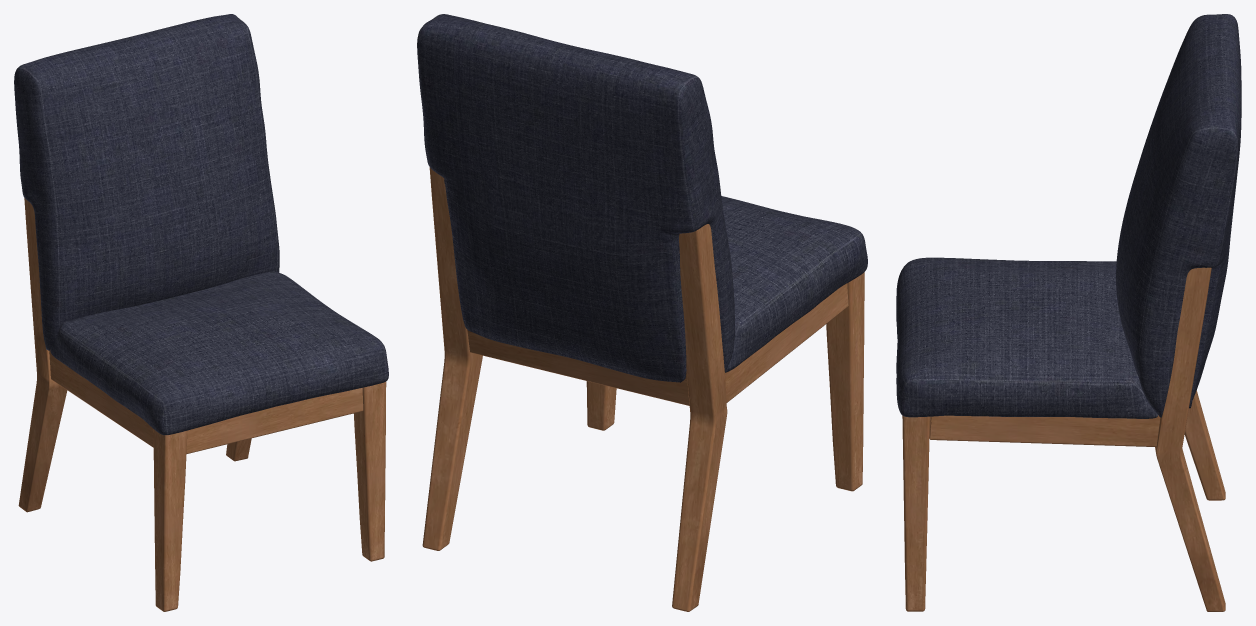
3 views of the same model, side by side, from view 1: azimuth 30°, elevation 25°; view 2: azimuth 150°, elevation 25°; view 3: azimuth 270°, elevation 25° (orthographic). The views are drawn at different scales.
Parts seen in each view (by area): view 1: RootNode; view 2: RootNode; view 3: RootNode.
Boxes of the visible parts, x1=… form: RootNode: x1=14, y1=14, x2=388, y2=611; RootNode: x1=417, y1=14, x2=867, y2=611; RootNode: x1=896, y1=14, x2=1241, y2=611.
Size of the model in its own units: 0.5066 by 0.9106 by 0.5859.
1 material, 1 textured.
